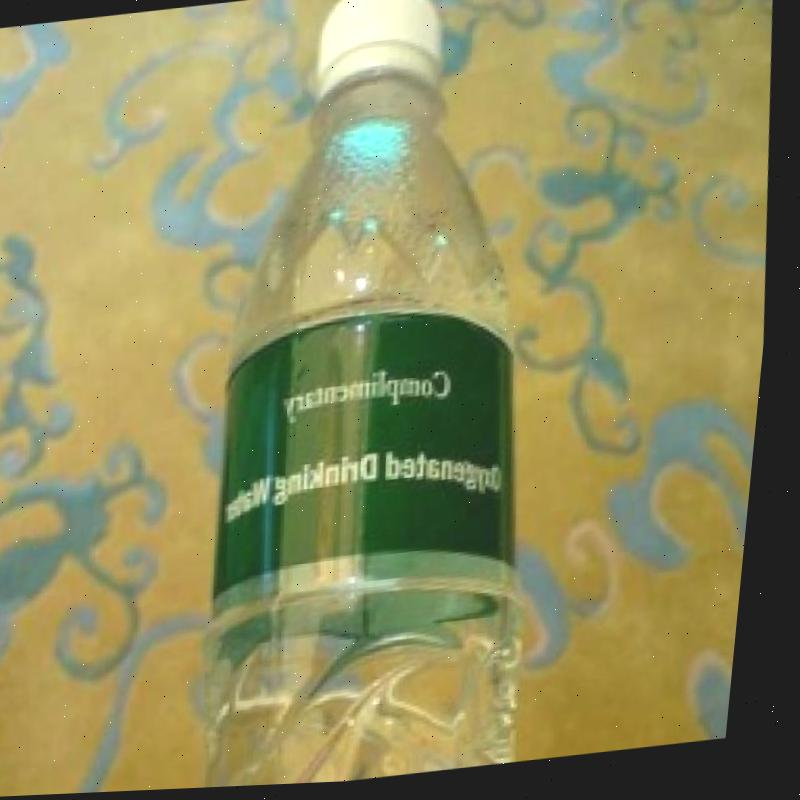botella: (160, 0, 589, 792)
